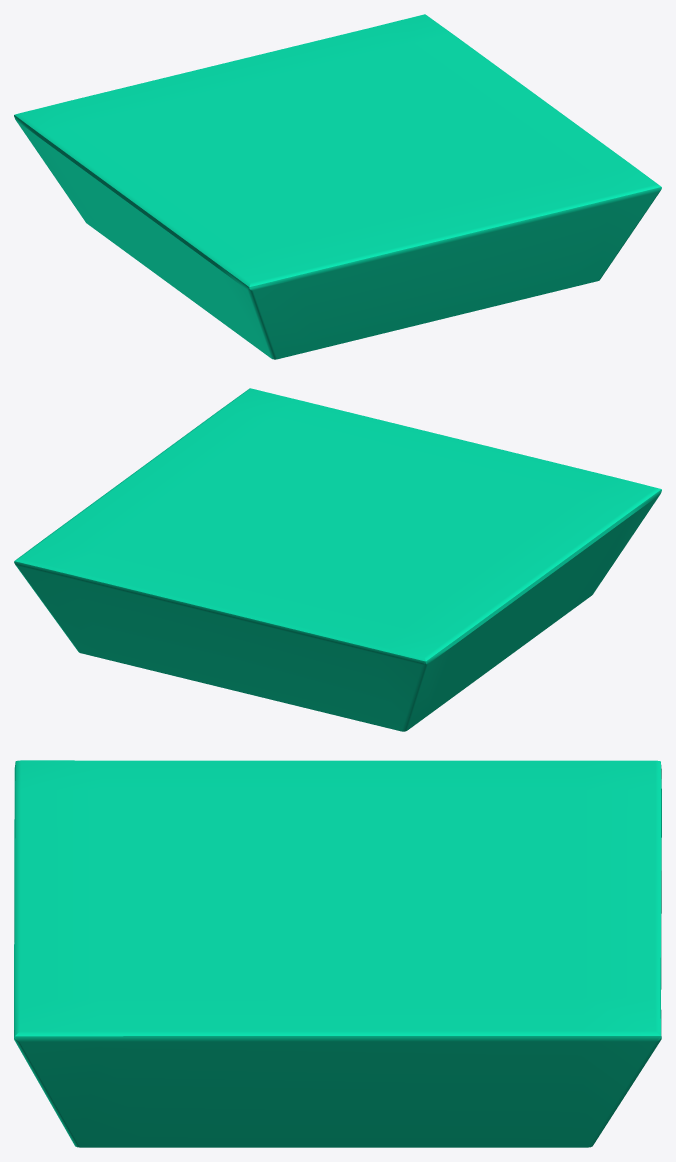
File: Plate.fbx
3 renders of one model, top to bottom at view 1: azimuth 30°, elevation 25°; view 2: azimuth 150°, elevation 25°; view 3: azimuth 270°, elevation 25°, orthographic. The views are drawn at different scales.
Parts seen in each view (by area): view 1: Plate; view 2: Plate; view 3: Plate.
Part boxes in pixels (box(x1,y1,x2,y2)): Plate: box(14, 14, 661, 359); Plate: box(14, 388, 661, 731); Plate: box(14, 760, 661, 1147).
Size of the model in its own units: 0.9005 by 0.2124 by 0.8937.
